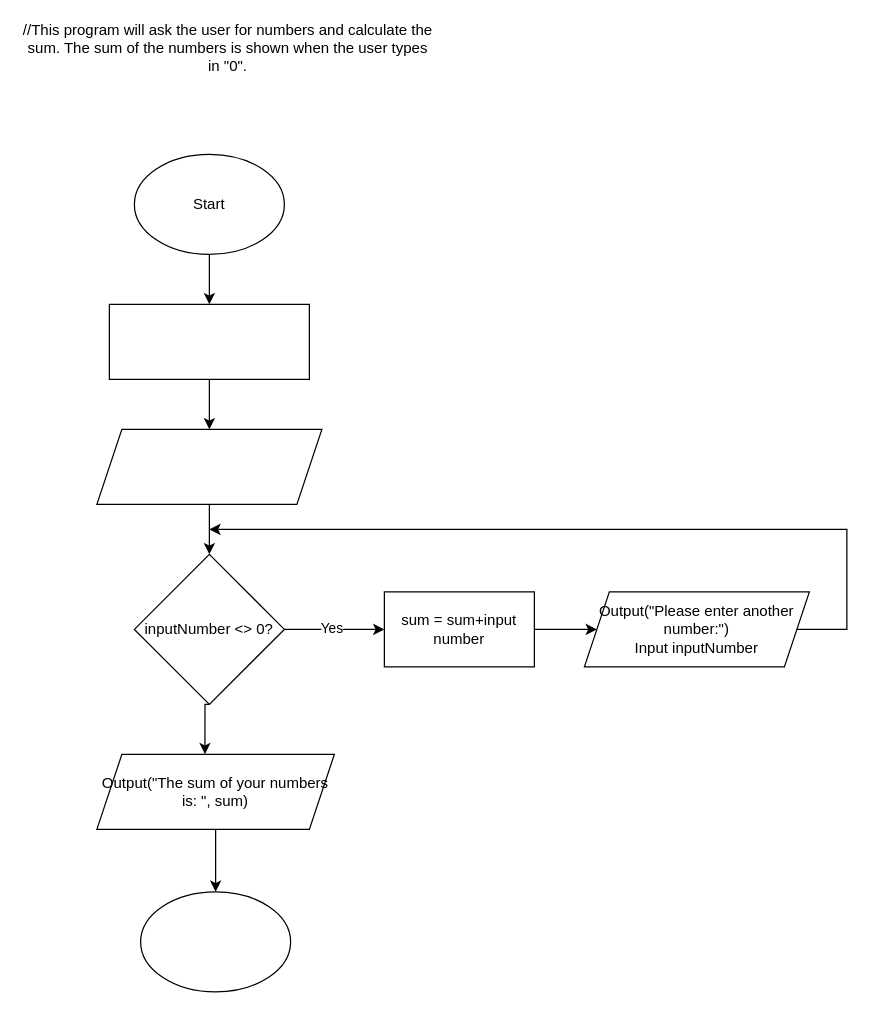
The diagram is 879 pixels wide and 1014 high, and some of its shapes have lost their labels. Here are the shapes that lost their labels. From the top down, the centre of each, then its label:
point (208, 341): Declarations num sum = 0 num inputNumber = 0
point (209, 466): Output("Please enter a number:") Input inputNumber
point (215, 941): End
